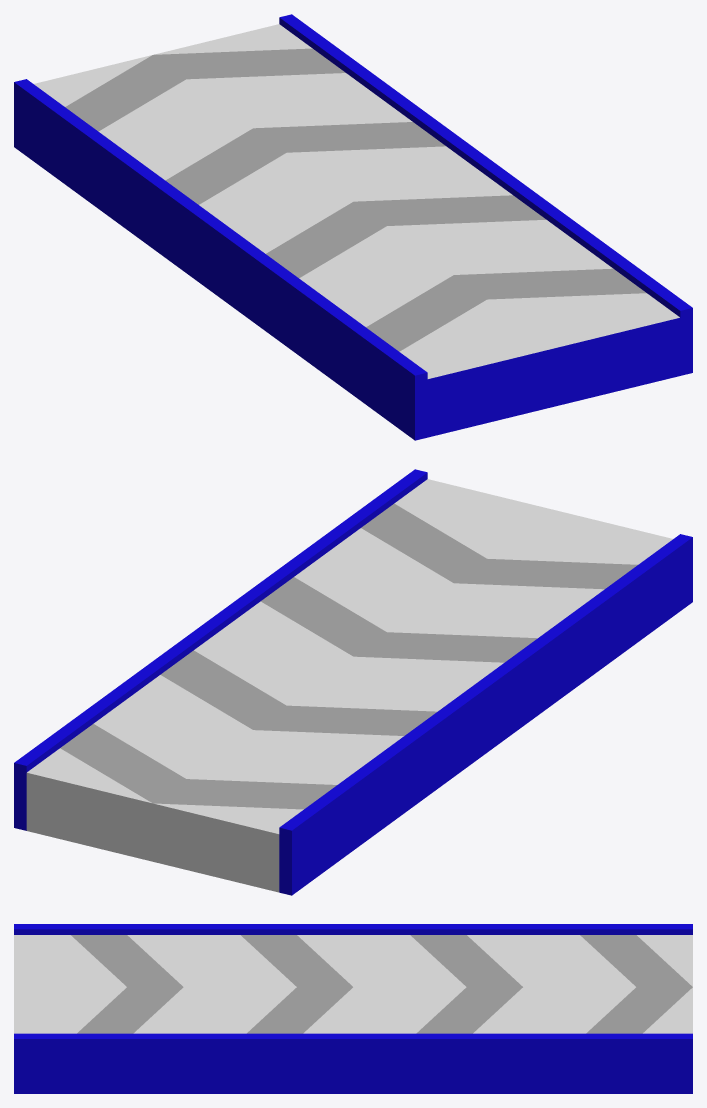
The model's file is M_Platform.fbx.
3 renders of one model, top to bottom at view 1: azimuth 30°, elevation 25°; view 2: azimuth 150°, elevation 25°; view 3: azimuth 270°, elevation 25°, orthographic. The views are drawn at different scales.
Parts seen in each view (by area): view 1: Platform; view 2: Platform; view 3: Platform.
Part boxes in pixels (<box>): Platform: <box>14,14,692,440</box>; Platform: <box>14,469,692,895</box>; Platform: <box>14,924,692,1093</box>.
Size of the model in its own units: 400 by 89.42 by 1000.
